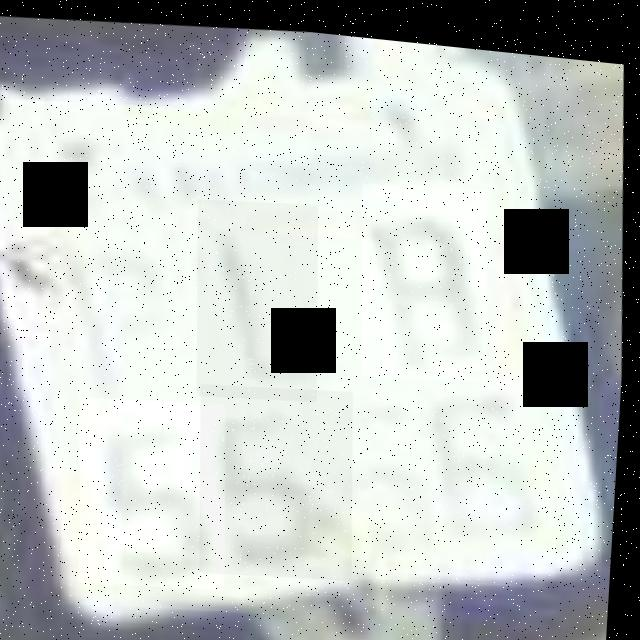5: (196, 371, 368, 580), (77, 387, 240, 592)
B: (355, 169, 500, 378)
J: (191, 189, 331, 401)
P: (79, 210, 206, 421)
